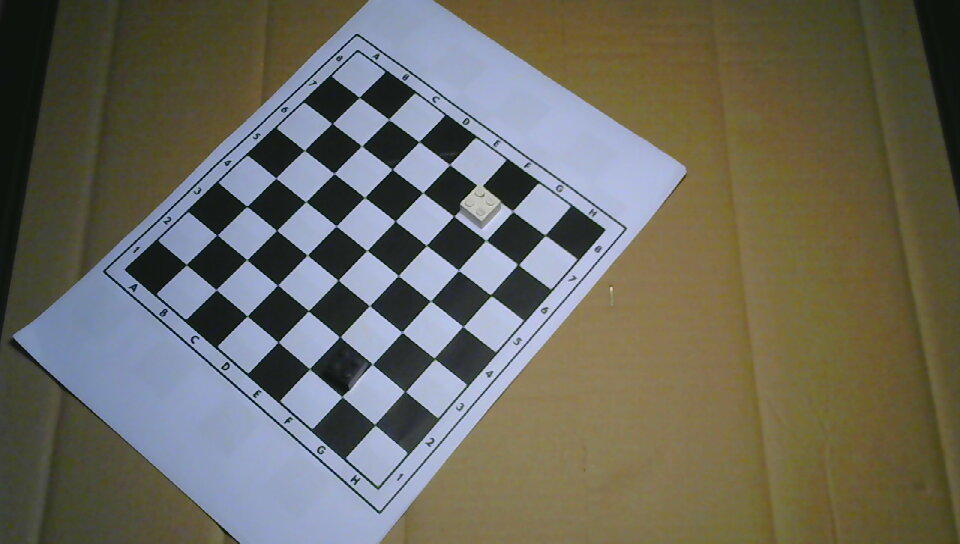bp: (325, 346, 367, 391)
wp: (458, 182, 502, 229)
